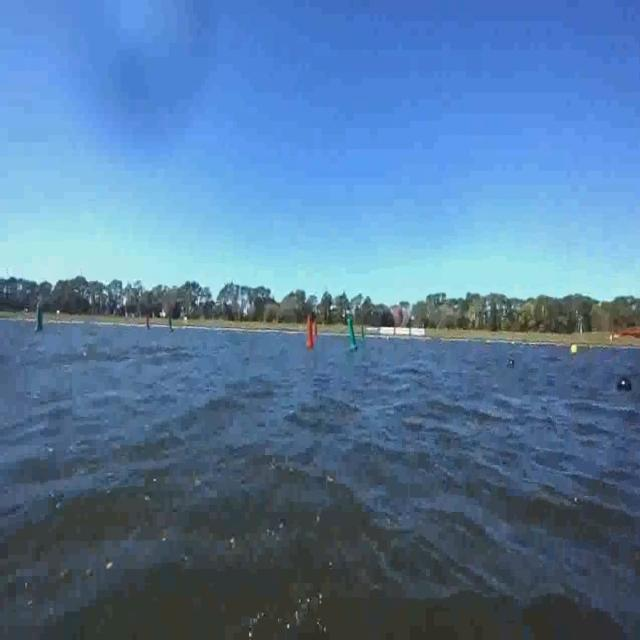black-buoy: (617, 375, 634, 394), (509, 357, 516, 370)
green-column-buoy: (346, 318, 359, 353), (32, 306, 43, 336), (169, 315, 175, 333), (360, 327, 366, 341)
red-column-buoy: (305, 320, 314, 351), (146, 314, 150, 331)
yellow-buoy: (570, 342, 578, 358)
